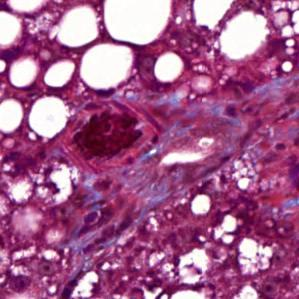steatosis: (80, 43, 140, 90), (26, 94, 73, 138)
